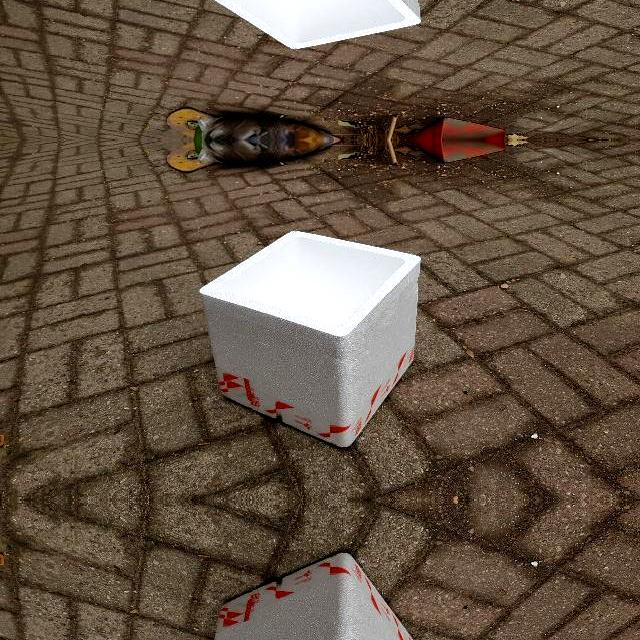Styrofoam: (199, 230, 421, 448), (200, 231, 421, 447), (199, 552, 421, 640), (214, 553, 413, 640), (199, 0, 421, 50)
